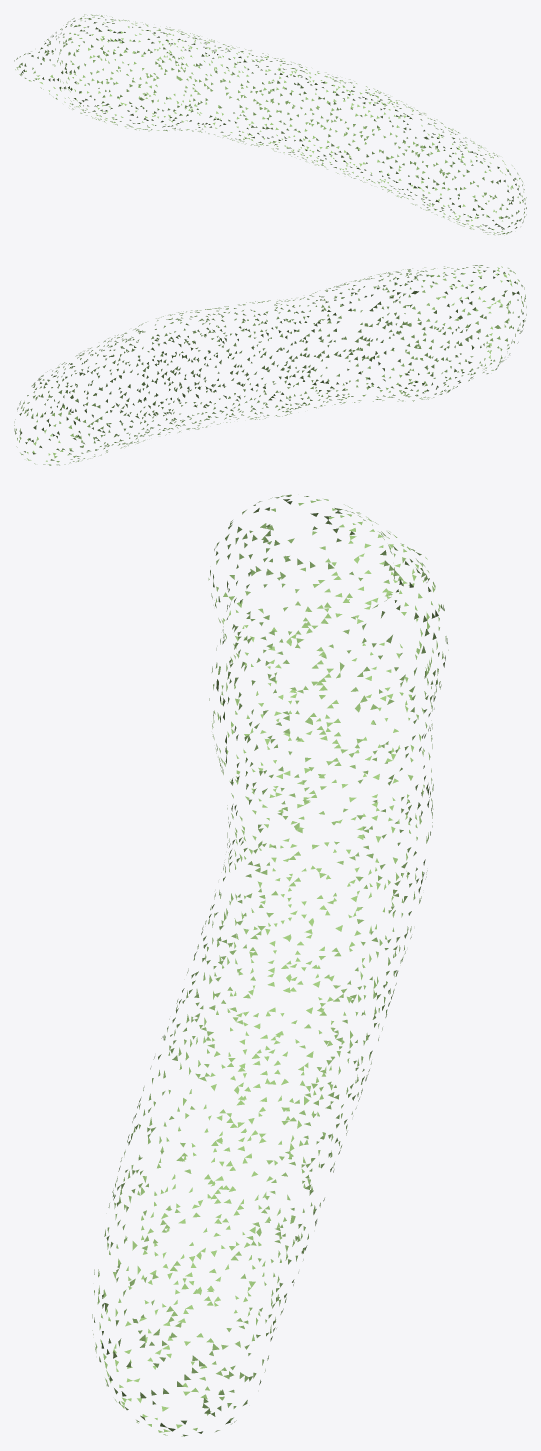
File: morph_013.glb
The picture shows the model from 3 angles, top to bottom: view 1: azimuth 30°, elevation 25°; view 2: azimuth 150°, elevation 25°; view 3: azimuth 270°, elevation 25°; orthographic projection. The views are drawn at different scales.
Size of the model in its own units: 102 by 60.92 by 35.53.
